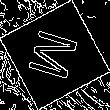M_E: (24, 26, 86, 84)
